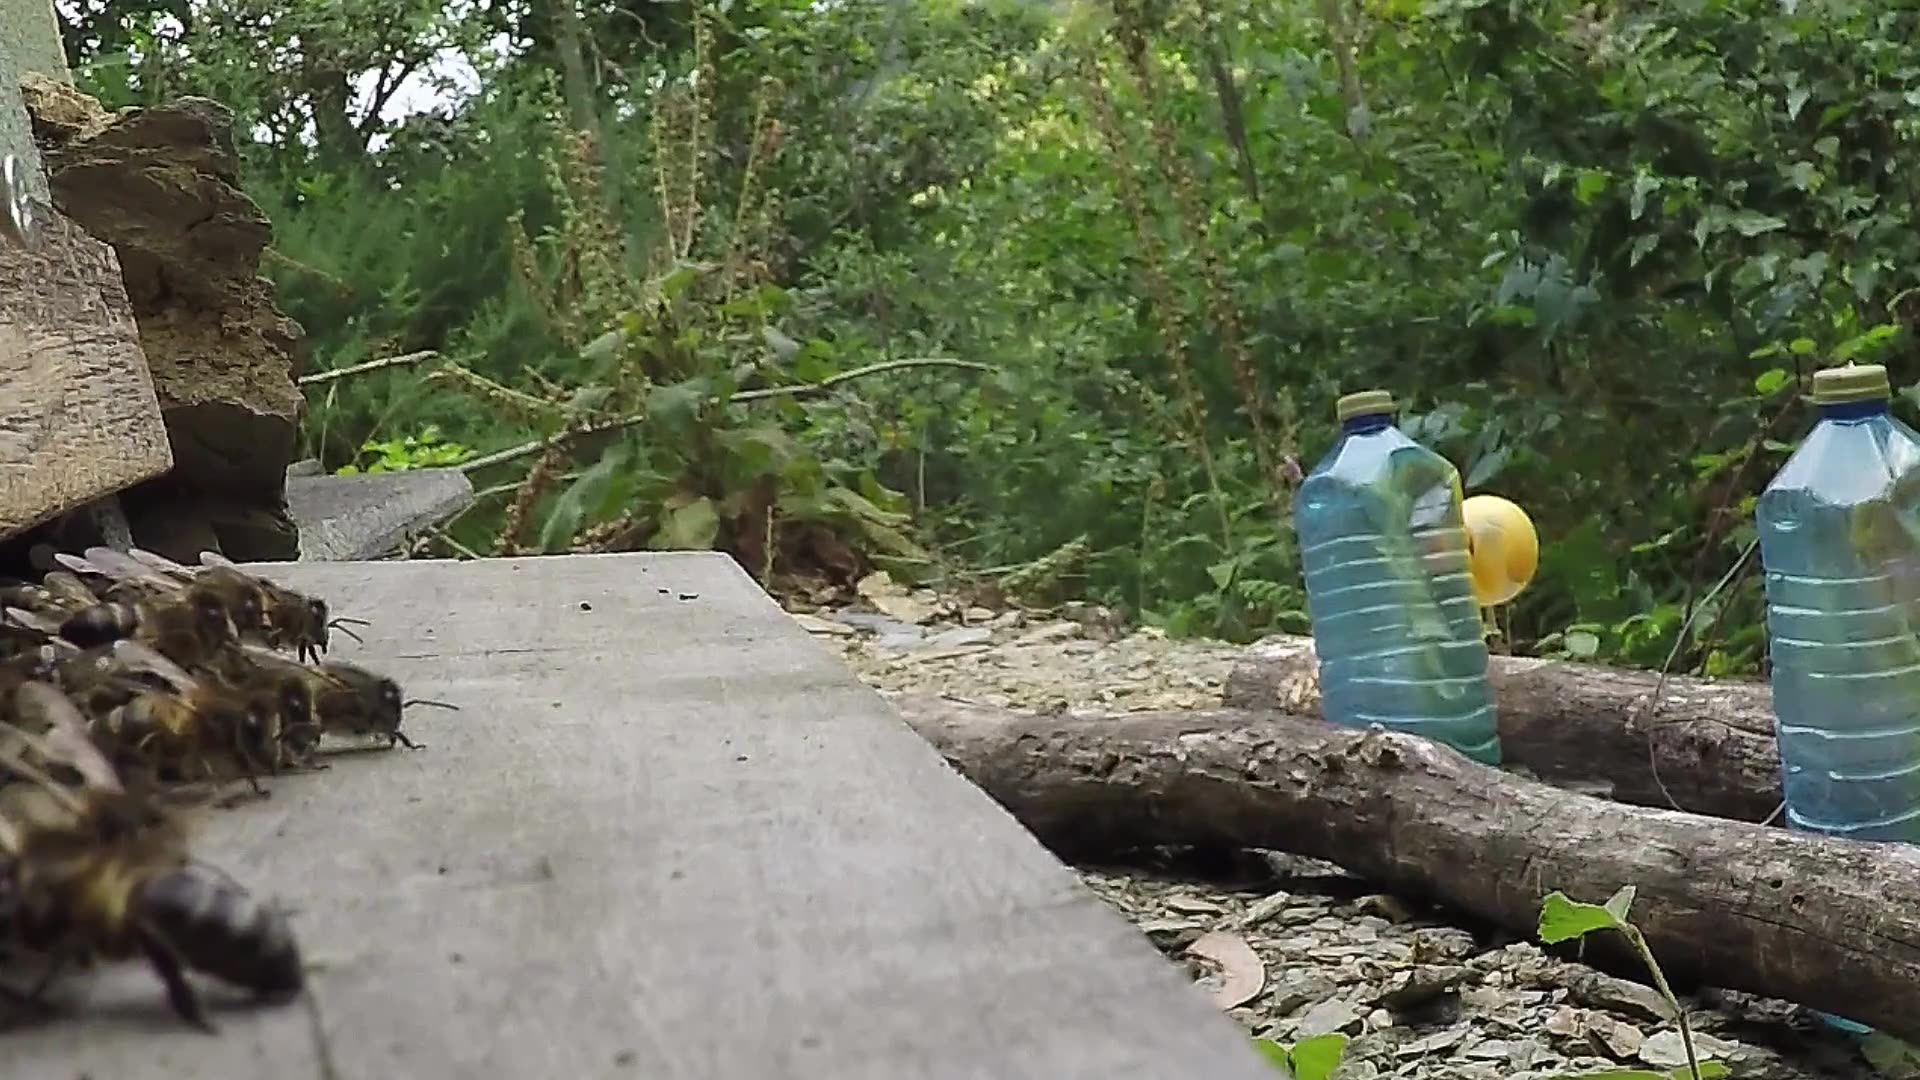bee: (15, 546, 429, 773), (18, 820, 323, 1040)
